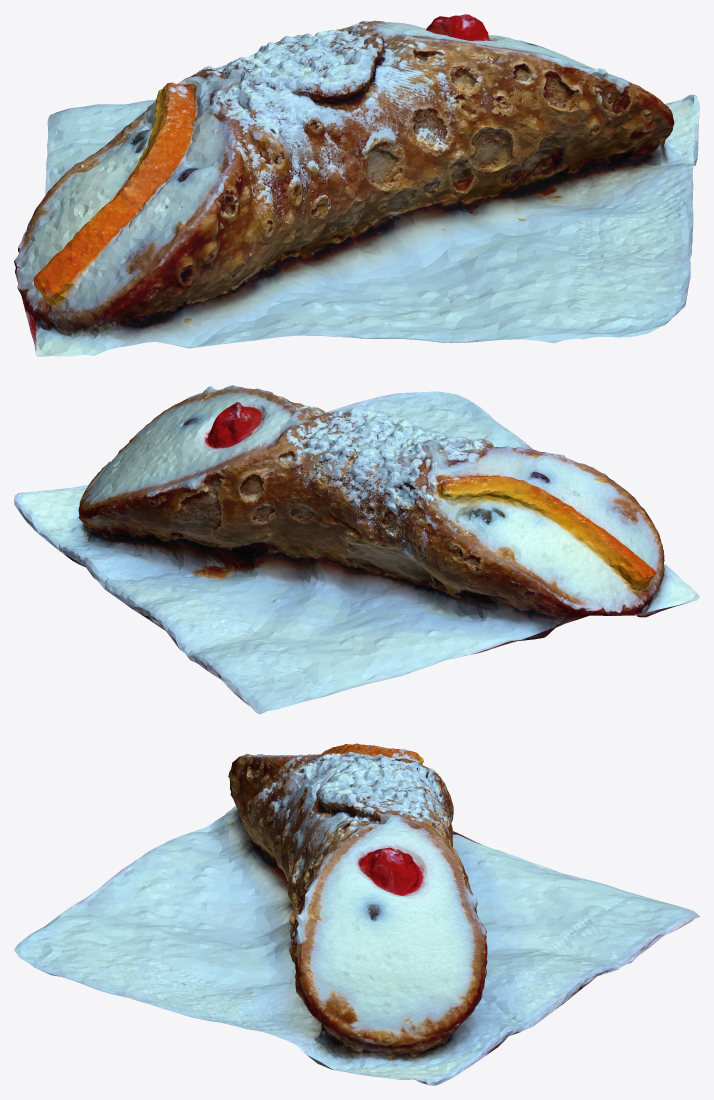
File: dish4.glb
The picture shows the model from 3 angles, top to bottom: view 1: azimuth 30°, elevation 25°; view 2: azimuth 150°, elevation 25°; view 3: azimuth 270°, elevation 25°; orthographic projection. The views are drawn at different scales.
Parts seen in each view (by area): view 1: model_New Qlone_20250524_101859966; view 2: model_New Qlone_20250524_101859966; view 3: model_New Qlone_20250524_101859966.
Boxes of the visible parts, bbox=[...] form: model_New Qlone_20250524_101859966: bbox=[14, 14, 699, 356]; model_New Qlone_20250524_101859966: bbox=[14, 385, 699, 714]; model_New Qlone_20250524_101859966: bbox=[14, 743, 699, 1085].
Bounding box in the file's own units: 222 × 55.79 × 215.
Materials: 1 (1 with a texture image).
